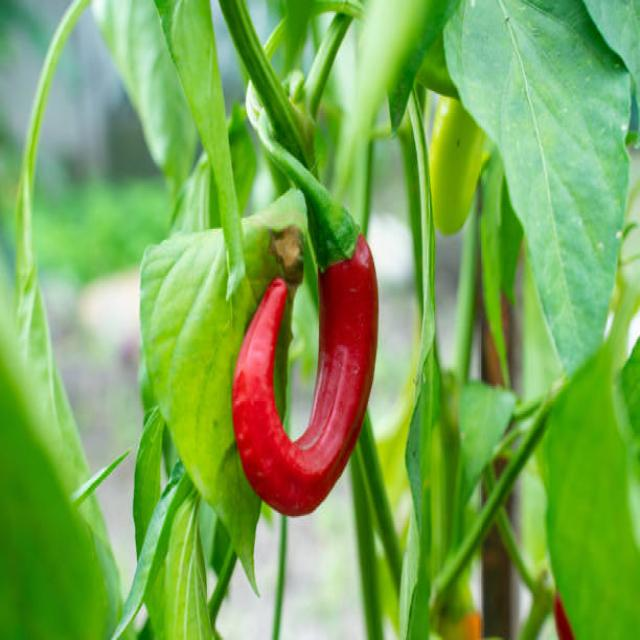Ripe: (230, 230, 381, 523)
